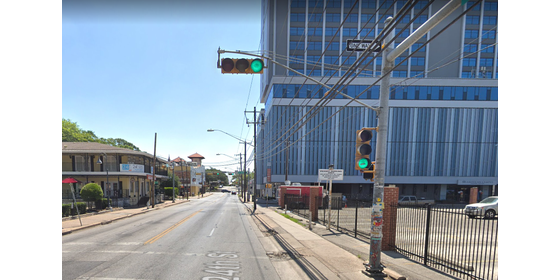one way arrow sign: (345, 38, 385, 55)
